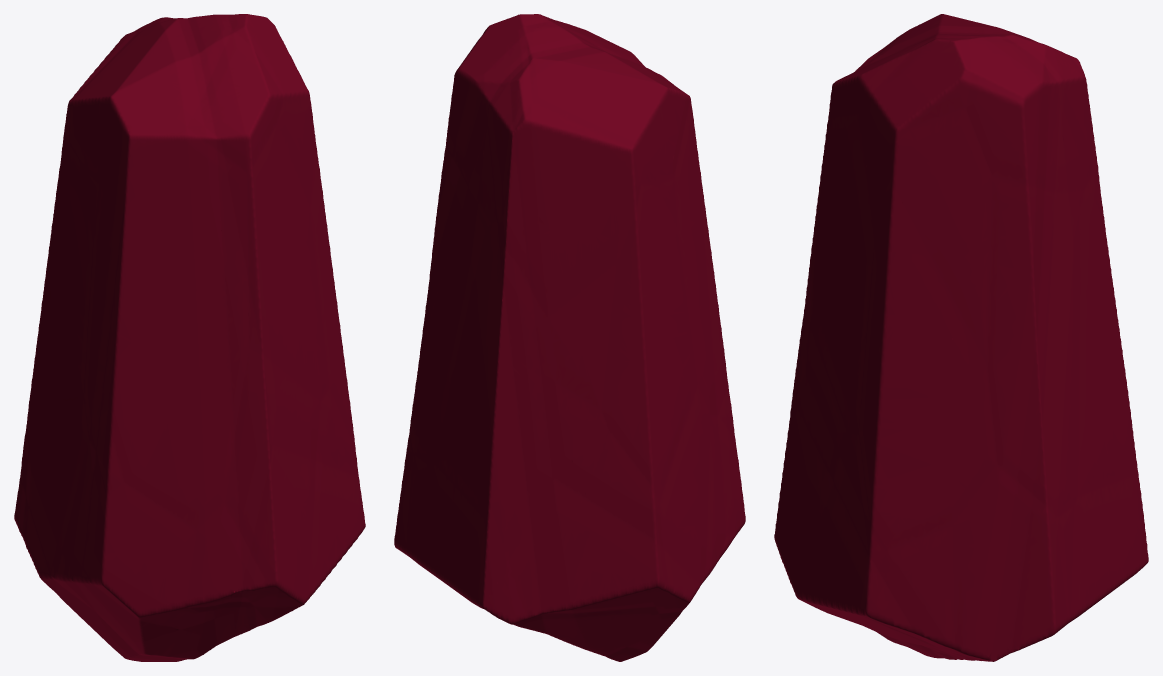
Rendered from crystal.gltf.
3 views of the same model, side by side, from view 1: azimuth 30°, elevation 25°; view 2: azimuth 150°, elevation 25°; view 3: azimuth 270°, elevation 25° (orthographic). The views are drawn at different scales.
Parts seen in each view (by area): view 1: Crystal; view 2: Crystal; view 3: Crystal.
Part boxes in pixels (left/top/right/bottom): Crystal: left=14, top=14, right=365, bottom=661; Crystal: left=394, top=14, right=745, bottom=661; Crystal: left=774, top=14, right=1148, bottom=661.
Bounding box in the file's own units: 2.86 × 6.29 × 3.22.
